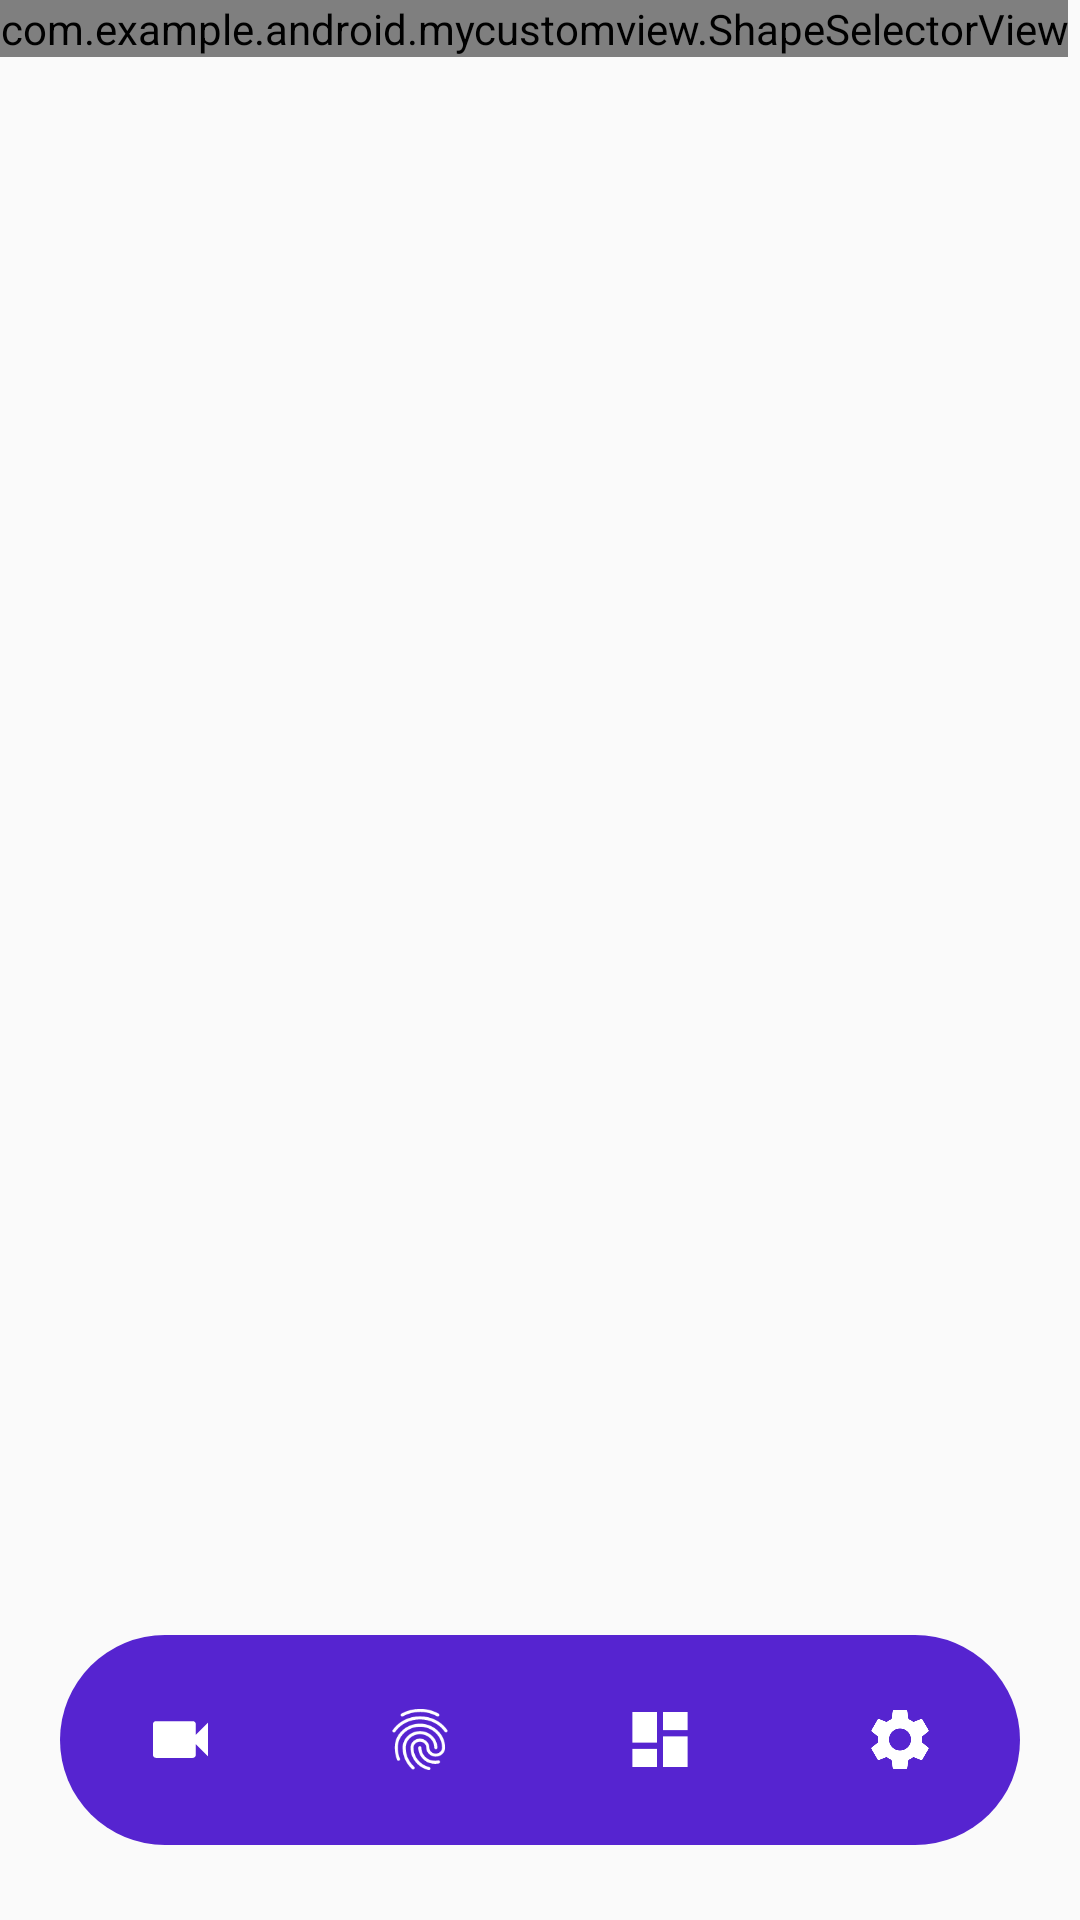

Where to tap for icons on this 1080px x 1920px app screen, as (x,y):
dashboard: (660,1739)
fingerprint: (420,1739)
settings: (900,1739)
videocam: (180,1739)
